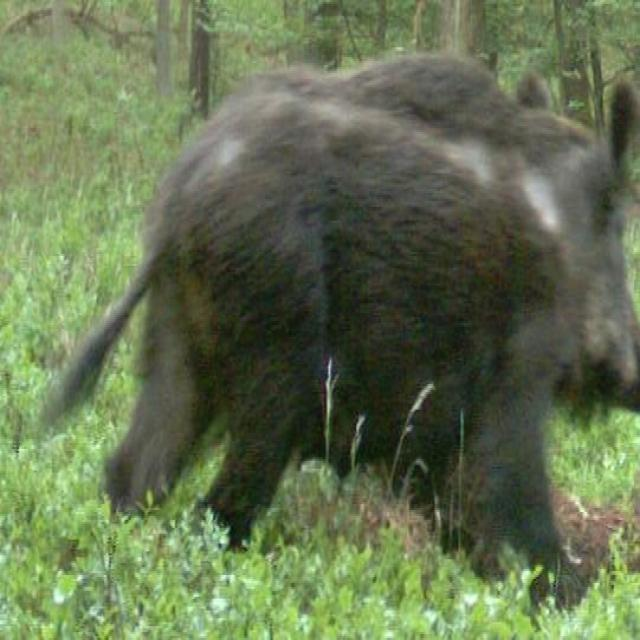pig: (97, 41, 640, 599)
